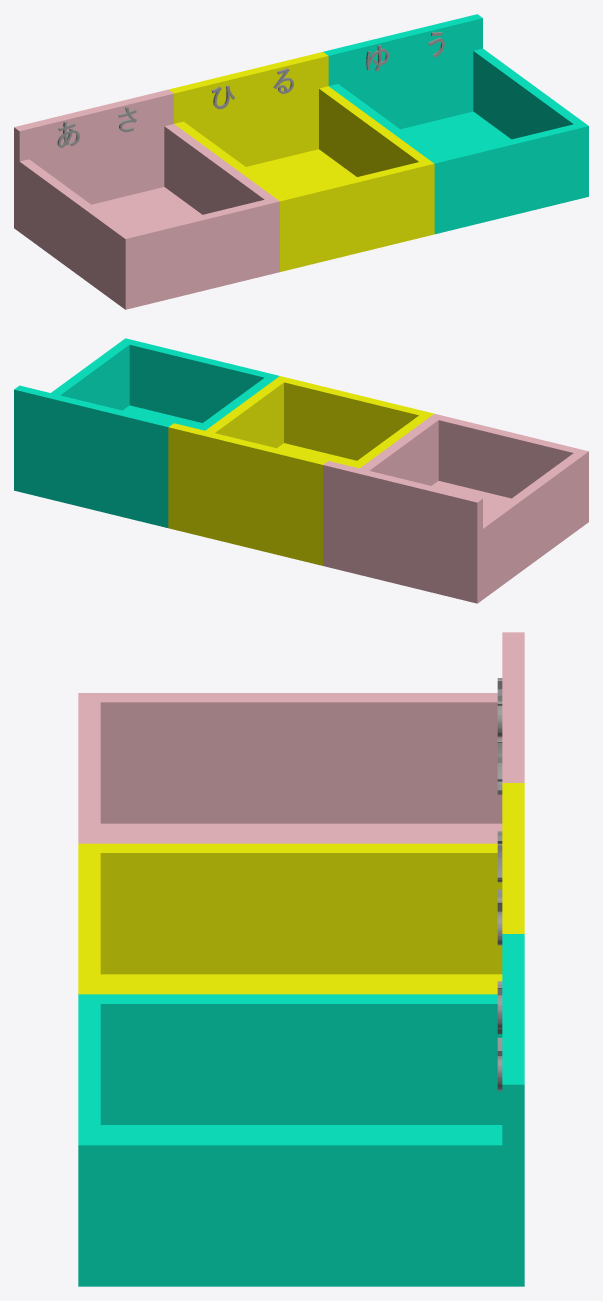
The model's file is DrugCase v2.fbx.
The picture shows the model from 3 angles, top to bottom: view 1: azimuth 30°, elevation 25°; view 2: azimuth 150°, elevation 25°; view 3: azimuth 270°, elevation 25°; orthographic projection. The views are drawn at different scales.
Parts seen in each view (by area): view 1: Body1, Body3, Body2; view 2: Body1, Body2, Body3; view 3: Body3, Body2, Body1.
Boxes of the visible parts, <box> form: Body1: <box>14,89,279,309</box>; Body3: <box>323,14,588,234</box>; Body2: <box>169,52,434,271</box>; Body1: <box>323,413,588,603</box>; Body2: <box>168,376,433,565</box>; Body3: <box>14,338,279,527</box>; Body3: <box>78,934,524,1286</box>; Body2: <box>78,783,524,994</box>; Body1: <box>78,632,524,843</box>.
Size of the model in its own units: 240 by 50 by 100.
